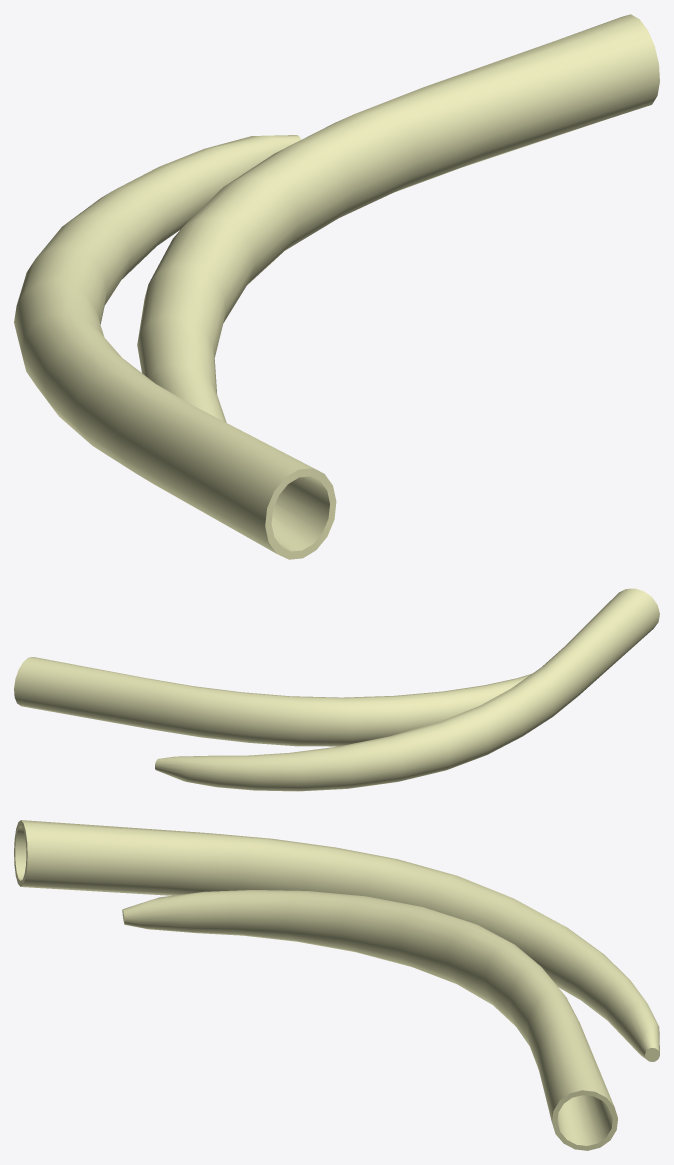
The model's file is SM_Ivory.fbx.
3 renders of one model, top to bottom at view 1: azimuth 30°, elevation 25°; view 2: azimuth 150°, elevation 25°; view 3: azimuth 270°, elevation 25°, orthographic. The views are drawn at different scales.
Visible parts, largest first — view 1: pCylinder23; view 2: pCylinder23; view 3: pCylinder23.
Boxes of the visible parts, x1,y1,x2,y2 form: pCylinder23: (14,14,659,559); pCylinder23: (14,588,659,791); pCylinder23: (14,820,659,1150).
Size of the model in its own units: 279 by 47.45 by 285.
